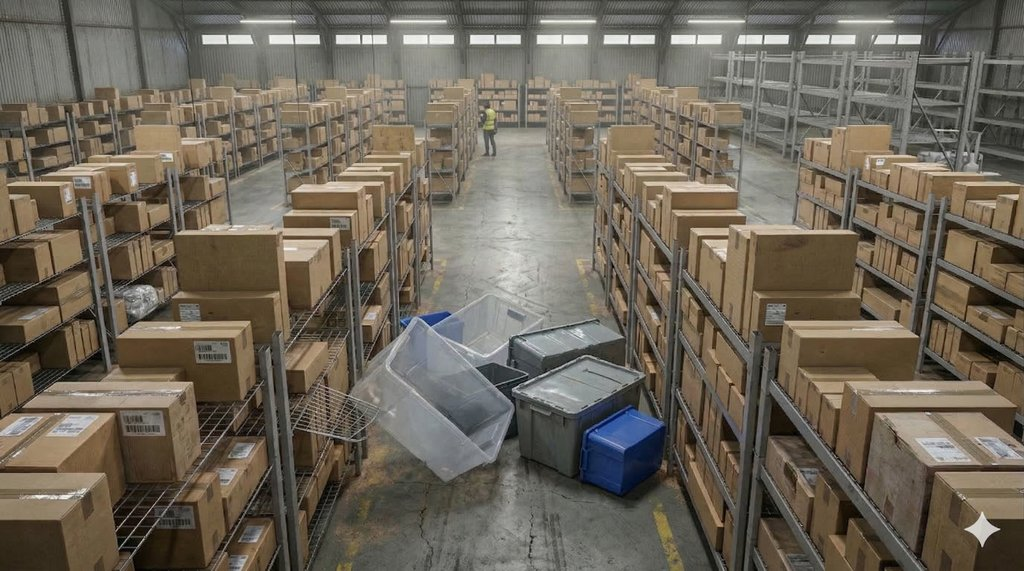empty_shelf: (702, 48, 996, 187), (934, 43, 1022, 162)
obstacle: (353, 263, 677, 507)
person: (472, 97, 510, 164)
